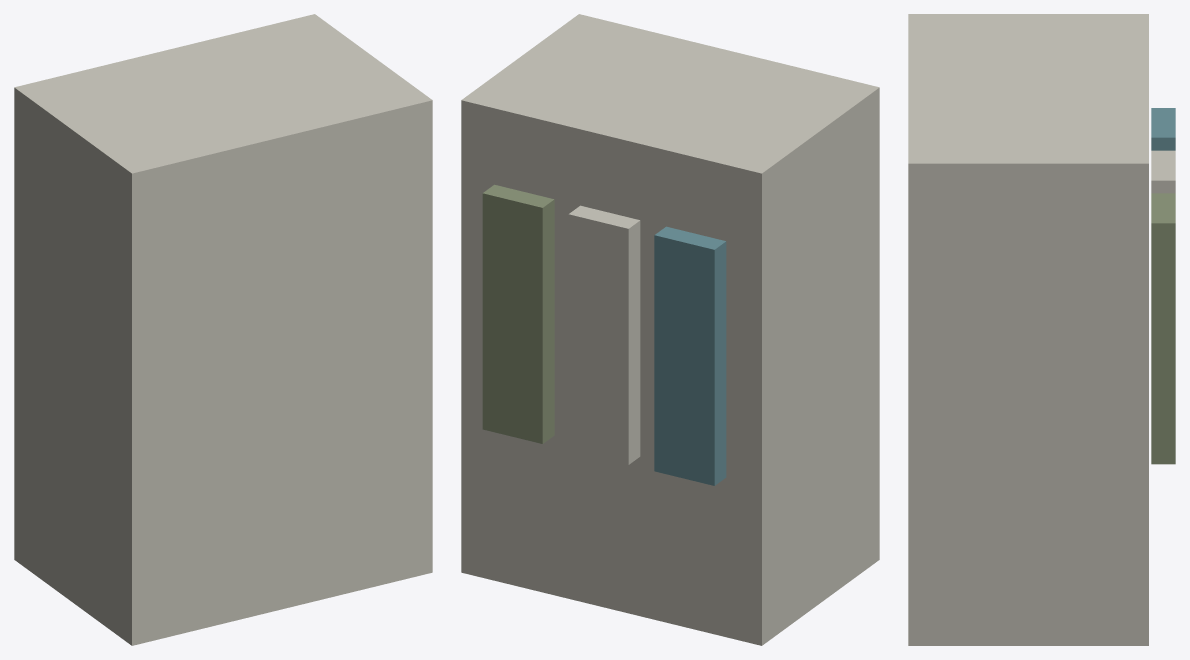
File: iz2_water_purifier_gravity.glb
3 renders of one model, left to right at view 1: azimuth 30°, elevation 25°; view 2: azimuth 150°, elevation 25°; view 3: azimuth 270°, elevation 25°, orthographic. The views are drawn at different scales.
Visible parts, largest first — view 1: body; view 2: body; view 3: body.
Part boxes in pixels (x1=…): body: x1=14, y1=14, x2=432, y2=645; body: x1=461, y1=14, x2=879, y2=645; body: x1=908, y1=14, x2=1175, y2=645.
Bounding box in the file's own units: 0.7182 × 1.08 × 0.5411.
